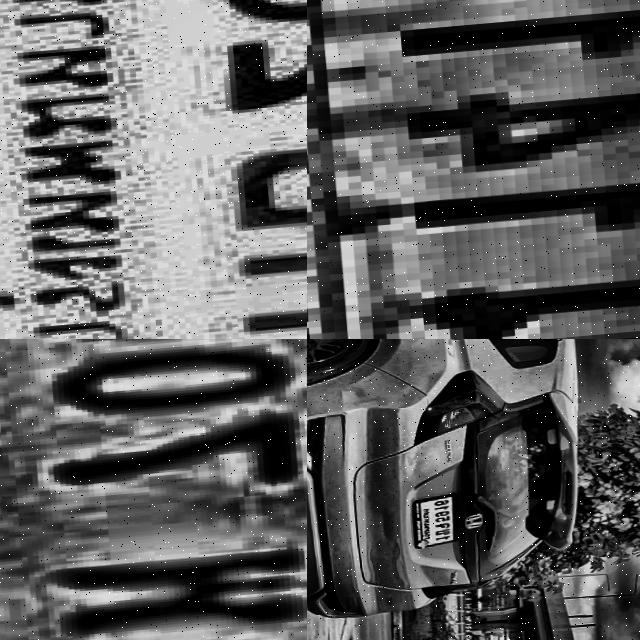license-plate: (307, 0, 640, 339), (0, 0, 307, 339), (0, 339, 307, 640), (405, 492, 468, 551)
